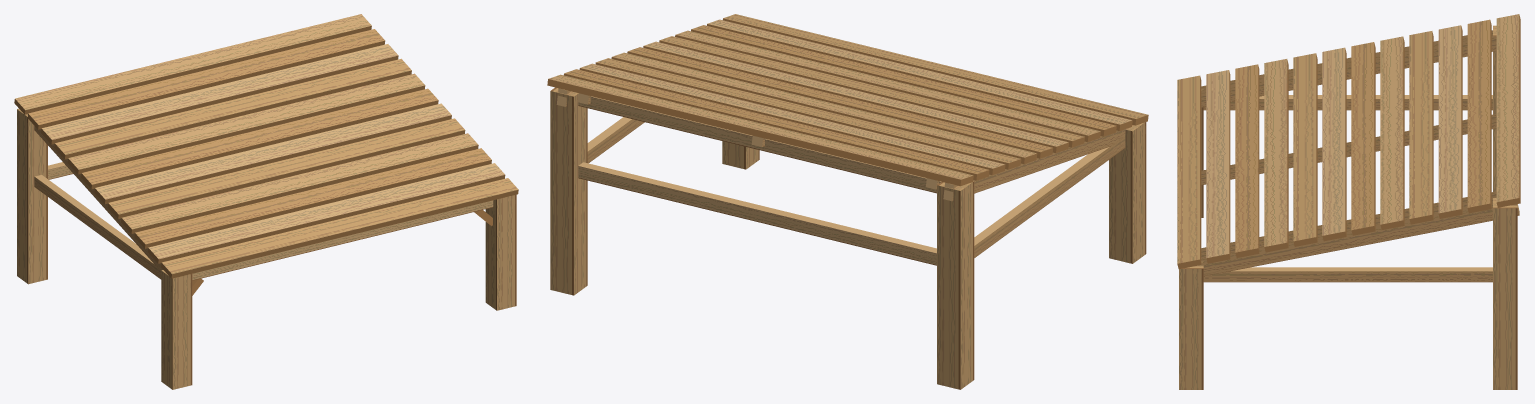
File: Prop_ProduceTable_Tilt.fbx
The picture shows the model from 3 angles, left to right: view 1: azimuth 30°, elevation 25°; view 2: azimuth 150°, elevation 25°; view 3: azimuth 270°, elevation 25°; orthographic projection. The views are drawn at different scales.
Visible parts, largest first — view 1: Prop_ProduceTable_Tilt; view 2: Prop_ProduceTable_Tilt; view 3: Prop_ProduceTable_Tilt.
Boxes of the visible parts, left/top/right/bottom form: Prop_ProduceTable_Tilt: left=14, top=14, right=518, bottom=389; Prop_ProduceTable_Tilt: left=547, top=14, right=1148, bottom=389; Prop_ProduceTable_Tilt: left=1177, top=14, right=1520, bottom=389.
Size of the model in its own units: 2.8 by 1.37 by 2.21.
1 material, 1 textured.
